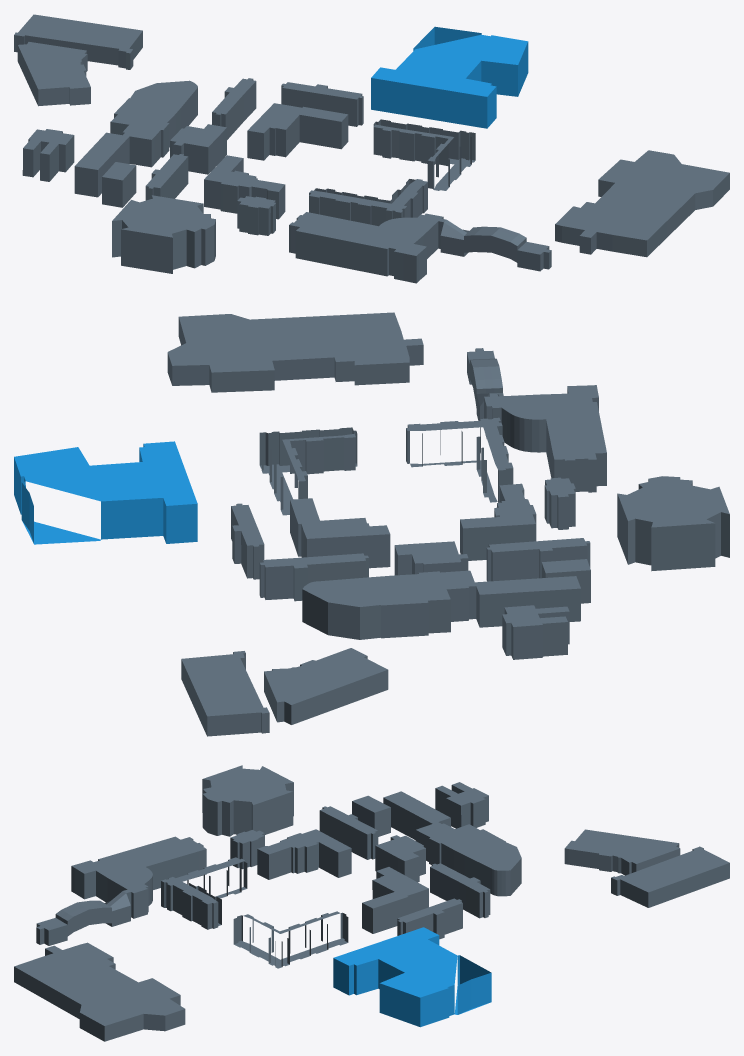
File: tweetsburg.glb
3 renders of one model, top to bottom at view 1: azimuth 30°, elevation 25°; view 2: azimuth 150°, elevation 25°; view 3: azimuth 270°, elevation 25°, orthographic. The views are drawn at different scales.
Parts seen in each view (by area): view 1: Cube.001, Cube, Cube.003, Cube.007, Cube.002, Cube.015, Cube.006, Cube.017, Cube.016, Cube.014, Cube.012, Cube.008 (+6 smaller); view 2: Cube, Cube.007, Cube.001, Cube.003, Cube.002, Cube.016, Cube.017, Cube.015, Cube.006, Cube.005, Cube.012, Cube.008 (+6 smaller); view 3: Cube.001, Cube, Cube.003, Cube.007, Cube.002, Cube.017, Cube.016, Cube.012, Cube.014, Cube.006, Cube.015, Cube.005 (+6 smaller).
Part boxes in pixels (x1,y1,x2,y2): Cube.001: [371, 26, 528, 128]; Cube: [555, 150, 729, 257]; Cube.003: [289, 212, 551, 283]; Cube.007: [74, 80, 197, 197]; Cube.002: [112, 195, 215, 273]; Cube.015: [373, 119, 475, 190]; Cube.006: [247, 103, 348, 160]; Cube.017: [14, 14, 142, 69]; Cube.016: [17, 42, 90, 106]; Cube.014: [309, 179, 427, 226]; Cube.012: [204, 155, 285, 219]; Cube.008: [22, 129, 74, 181]; Cube: [167, 312, 423, 392]; Cube.007: [302, 570, 580, 639]; Cube.001: [14, 441, 197, 544]; Cube.003: [467, 348, 606, 492]; Cube.002: [617, 476, 729, 571]; Cube.016: [264, 648, 388, 724]; Cube.017: [181, 651, 269, 736]; Cube.015: [259, 427, 357, 515]; Cube.006: [290, 498, 390, 568]; Cube.005: [259, 553, 368, 601]; Cube.012: [460, 483, 536, 560]; Cube.008: [502, 605, 569, 659]; Cube.001: [333, 927, 491, 1027]; Cube: [14, 942, 185, 1041]; Cube.003: [36, 836, 206, 945]; Cube.007: [383, 791, 521, 896]; Cube.002: [202, 765, 293, 836]; Cube.017: [611, 846, 729, 907]; Cube.016: [564, 829, 680, 875]; Cube.012: [257, 829, 351, 879]; Cube.014: [161, 857, 247, 929]; Cube.006: [362, 867, 428, 933]; Cube.015: [233, 911, 348, 968]; Cube.005: [430, 863, 490, 918].
Size of what is drawn, in the model's own units: 4.72 by 0.3079 by 5.89.
